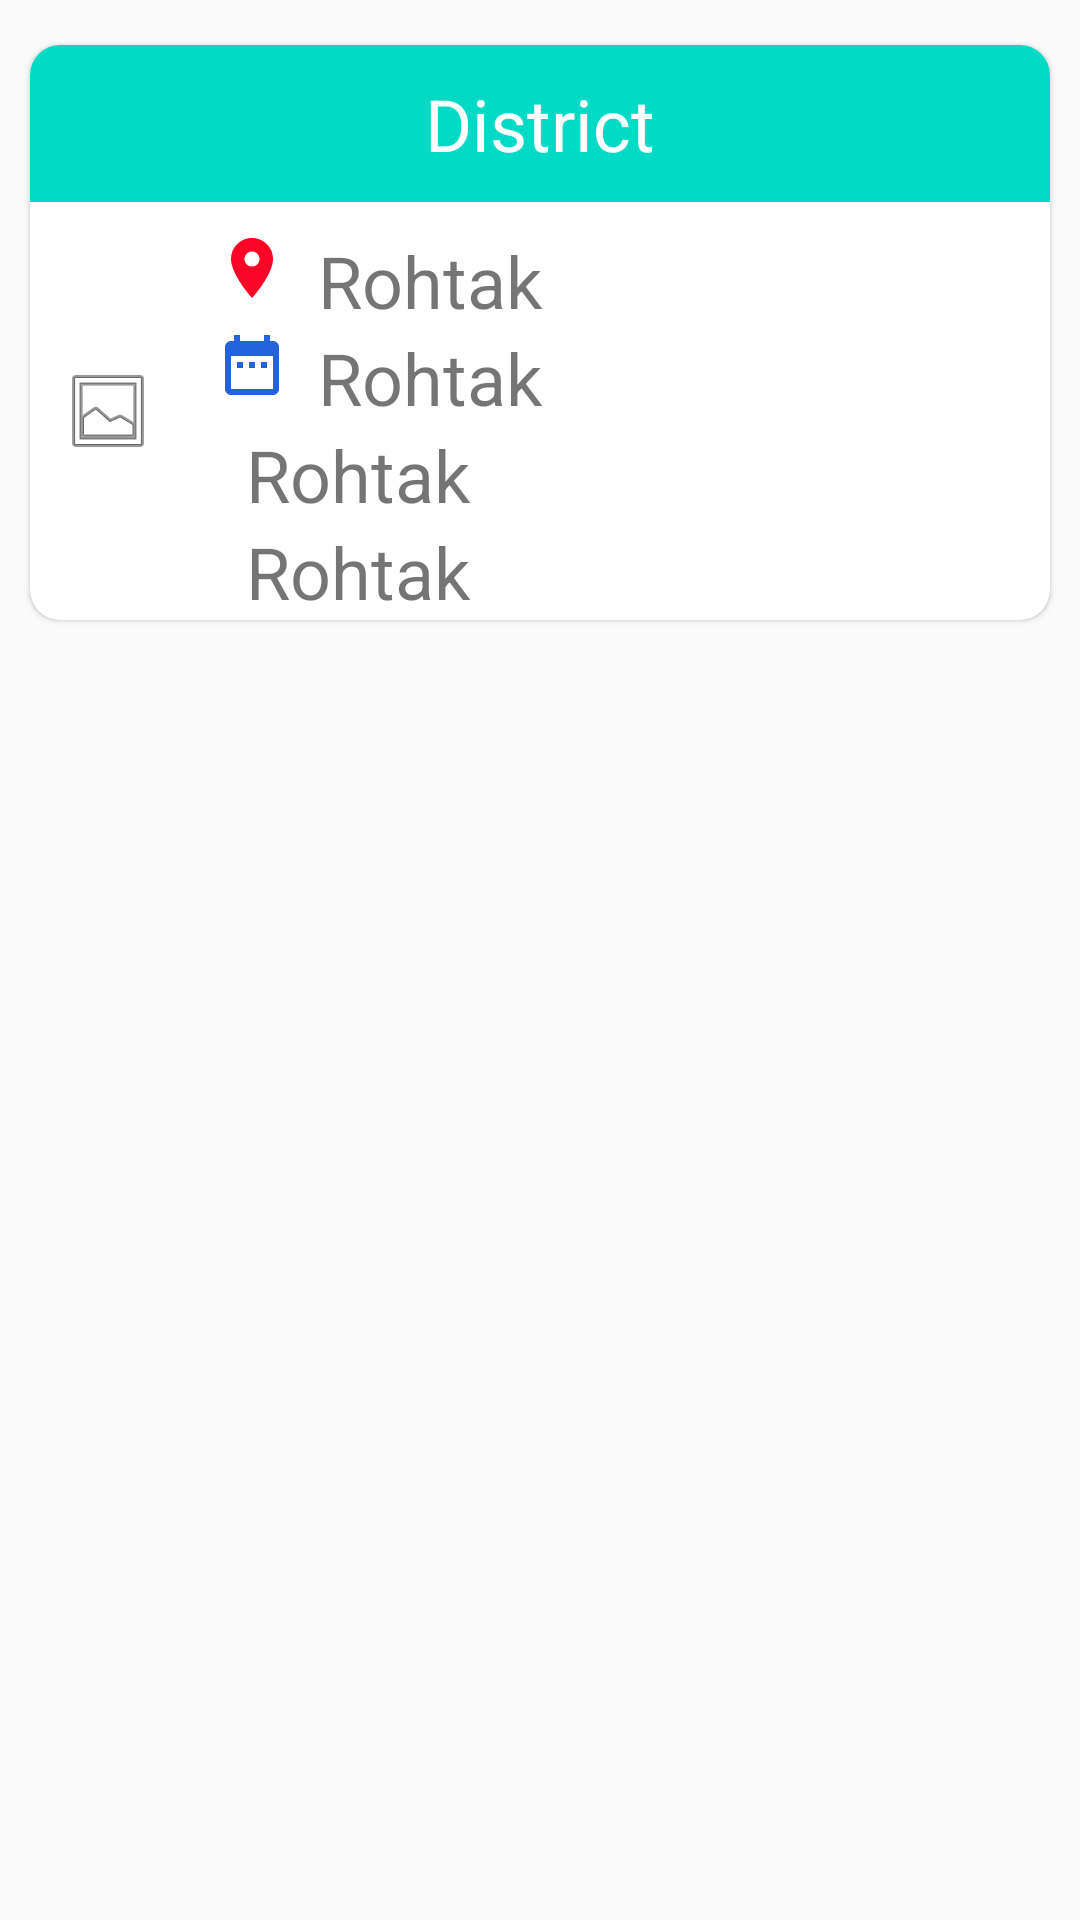

Icons on this 1080 × 1920 Android screen, each with the point to tap as point (x, y):
calendar: point (252, 365)
gallery: point (108, 411)
location: point (252, 268)
